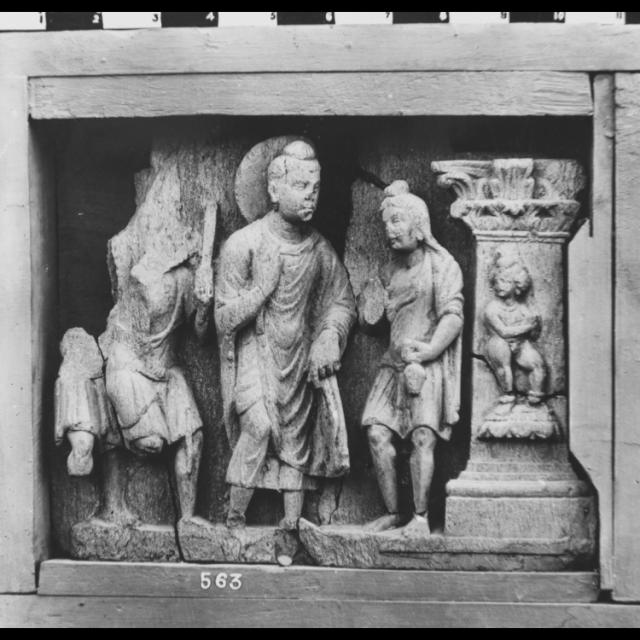buddha-standing: (214, 136, 356, 531)
